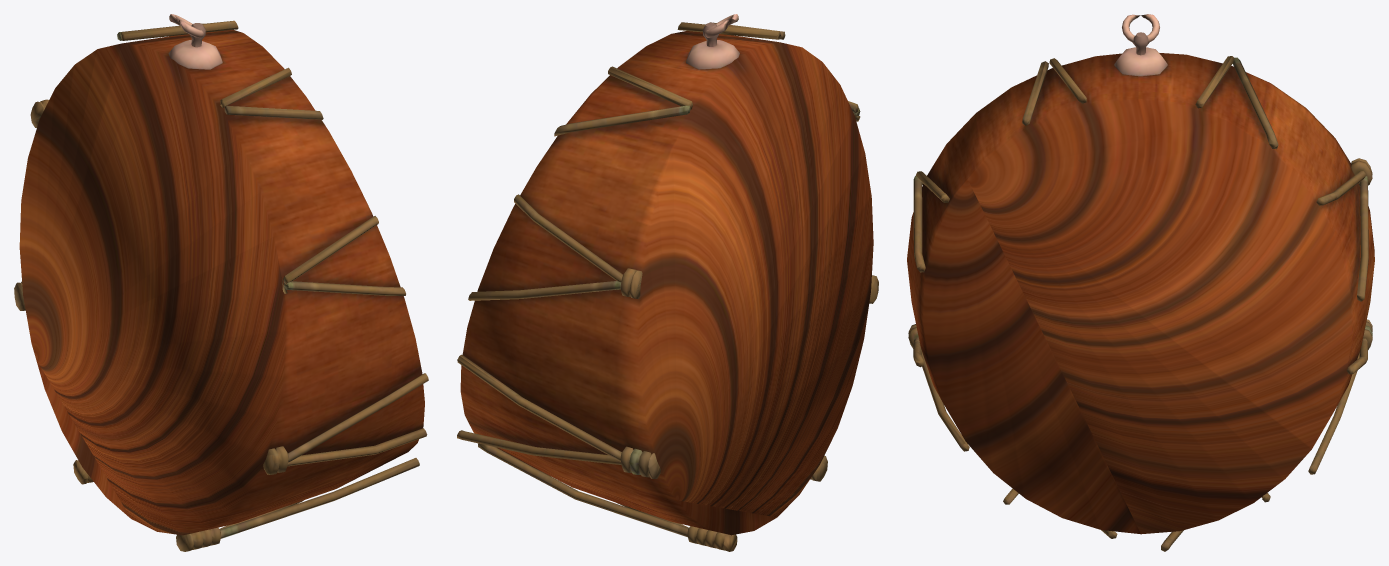
The model's file is Gendang_Terputus2.fbx.
3 renders of one model, left to right at view 1: azimuth 30°, elevation 25°; view 2: azimuth 150°, elevation 25°; view 3: azimuth 270°, elevation 25°, orthographic. The views are drawn at different scales.
Visible parts, largest first — view 1: Cylinder_Gendang_0.002; view 2: Cylinder_Gendang_0.002; view 3: Cylinder_Gendang_0.002.
Boxes of the visible parts, bbox=[...] form: Cylinder_Gendang_0.002: bbox=[14, 14, 428, 551]; Cylinder_Gendang_0.002: bbox=[457, 14, 878, 551]; Cylinder_Gendang_0.002: bbox=[907, 14, 1374, 551].
Size of the model in its own units: 612 by 1194 by 1093.
1 material, 1 textured.
